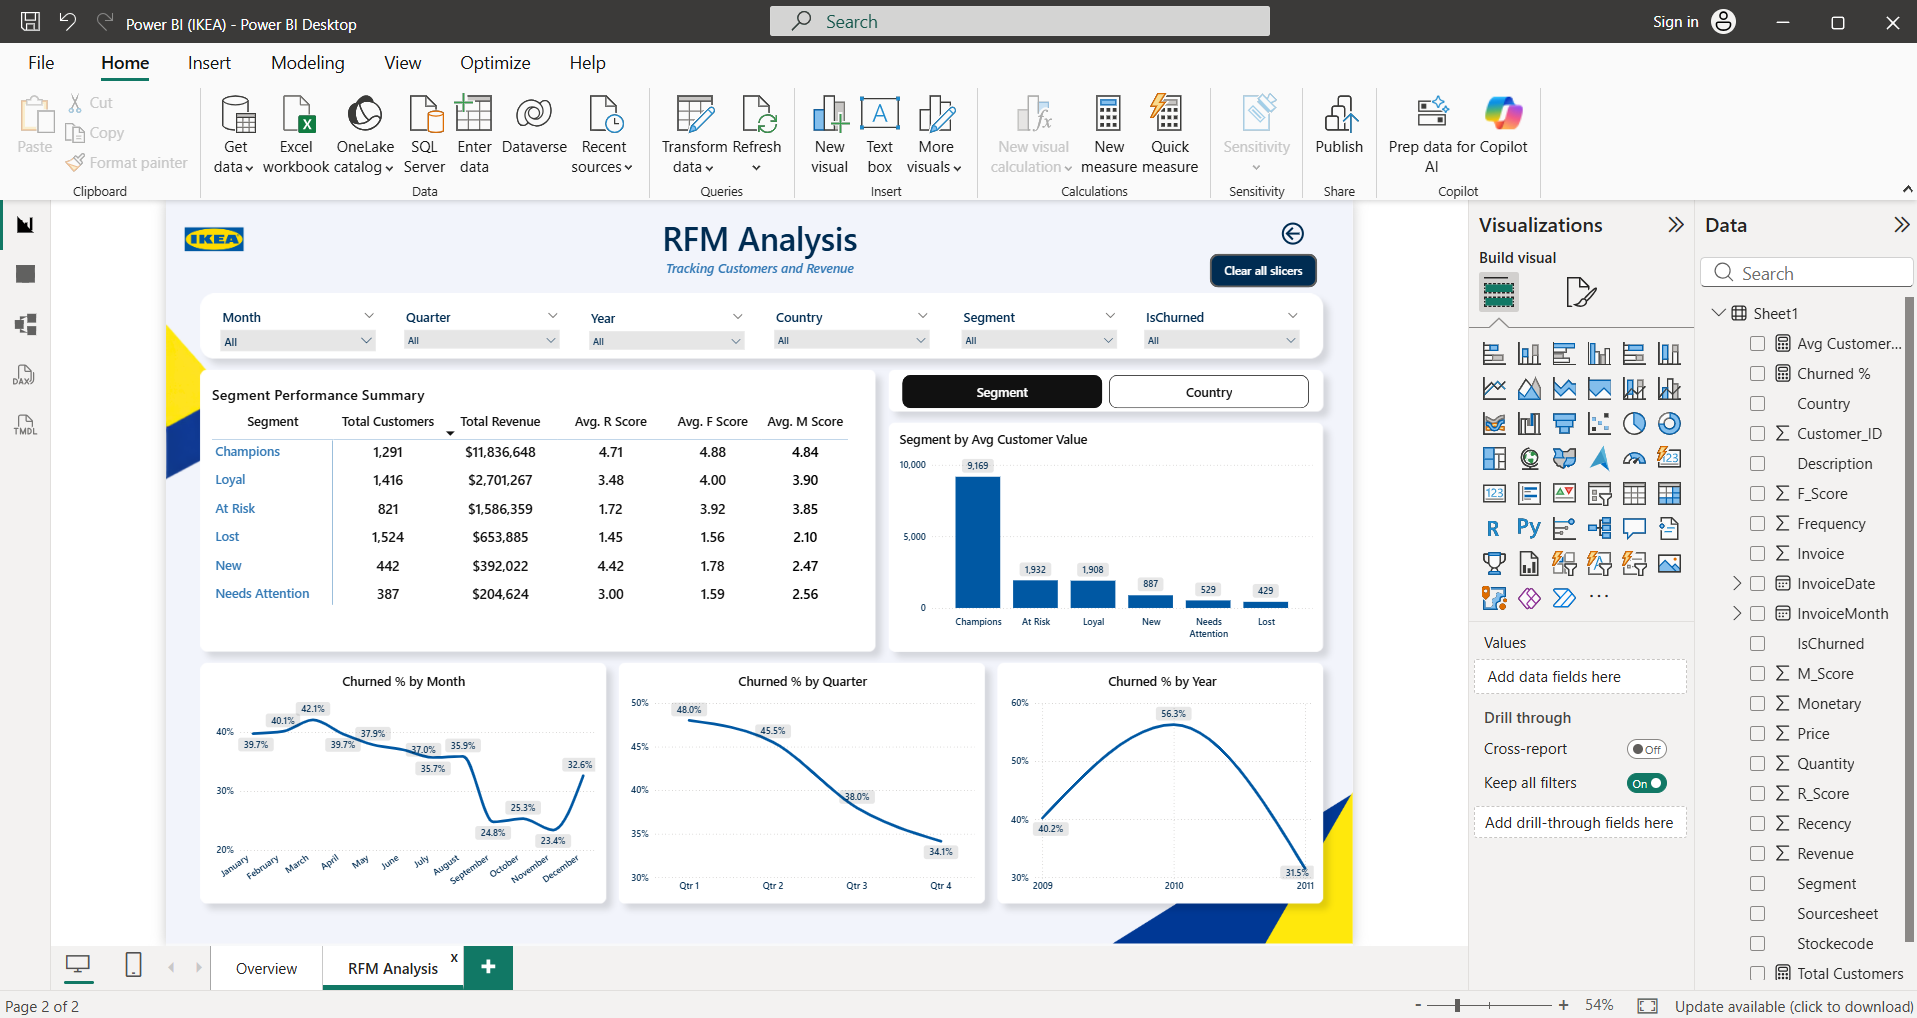

This screenshot's page, from the dashboard's own definition file:
{"tool":"powerbi","page":{"name":"RFM Analysis","canvas":[1750,1100],"ordinal":1},"visuals":[{"type":"slicer","fields":{"Values":["Sheet1.InvoiceMonth.Variation.Date Hierarchy.Month"]},"box":[69.4,155.6,249.3,69.4],"z":0},{"type":"pivotTable","title":"Segment Performance Summary","fields":{"Rows":["Sheet1.Segment"],"Values":["Sheet1.Total Customers","Sheet1.Total Revenue","Avg(Sheet1.R_Score)","Avg(Sheet1.F_Score)","Avg(Sheet1.M_Score)"]},"box":[62.7,261,973,394.4],"z":0,"group":"g2"},{"type":"lineChart","title":"Churned % by Month","fields":{"Category":["Sheet1.InvoiceMonth.Variation.Date Hierarchy.Month"],"Y":["Sheet1.Churned %"]},"box":[61.9,697.3,575.5,333.7],"z":0,"group":"g1"},{"type":"slicer","fields":{"Values":["Sheet1.InvoiceDate.Variation.Date Hierarchy.Quarter"]},"box":[341.2,155.6,249.3,69.4],"z":1000},{"type":"clusteredColumnChart","title":"Segment by Avg Customer Value","fields":{"Category":["Sheet1.Segment"],"Y":["Sheet1.Avg Customer Value"]},"box":[1076.4,339.1,619.3,317],"z":1000,"group":"g2"},{"type":"lineChart","fields":{"Category":["Sheet1.InvoiceMonth.Variation.Date Hierarchy.Year"],"Y":["Sheet1.Churned %"]},"box":[1239.1,697.3,457.4,333.7],"z":1000,"group":"g1"},{"type":"slicer","fields":{"Values":["Sheet1.InvoiceDate.Variation.Date Hierarchy.Year"]},"box":[613,157.5,249.3,69.4],"z":2000},{"type":"lineChart","fields":{"Category":["Sheet1.InvoiceMonth.Variation.Date Hierarchy.Quarter"],"Y":["Sheet1.Churned %"]},"box":[678.6,697.3,517.4,333.7],"z":2000,"group":"g1"},{"type":"slicer","fields":{"Values":["Sheet1.Segment"]},"box":[1162.2,155.6,249.3,69.4],"z":3000},{"type":"slicer","fields":{"Values":["Sheet1.Country"]},"box":[886.6,155.6,249.3,69.4],"z":4000},{"type":"slicer","fields":{"Values":["Sheet1.IsChurned"]},"box":[1432.1,155.6,249.3,69.4],"z":5000},{"type":"group","id":"g1","title":"Revenue","box":[61.9,697.3,1634.5,333.7],"z":7000},{"type":"bookmarkNavigator","box":[1085.6,258,600.9,49.8],"z":8000},{"type":"image","box":[7.4,20.3,127.2,75.6],"z":9000},{"type":"textbox","box":[588,18.4,575.1,119.8],"z":10000},{"type":"actionButton","box":[1625.7,18.4,71.9,62.7],"z":11000},{"type":"actionButton","box":[1539,79.3,158.5,49.8],"z":12000},{"type":"group","id":"g2","title":"Segment","box":[62.7,261,1633.1,395.2],"z":14000}]}

Visuals, with their boxes on the page's 1750x1100 design canvas (x1, y1, x2, y2). These are canvas units, not pixel positions in the 1917x1018 screenshot, which may show the page scaled, cropped or inside an application window:
slicer - Sheet1.InvoiceMonth.Variation.Date Hierarchy.Month: bbox=(69, 156, 319, 225)
"Segment Performance Summary" pivotTable: bbox=(63, 261, 1036, 655)
"Churned % by Month" lineChart: bbox=(62, 697, 637, 1031)
slicer - Sheet1.InvoiceDate.Variation.Date Hierarchy.Quarter: bbox=(341, 156, 590, 225)
"Segment by Avg Customer Value" clusteredColumnChart: bbox=(1076, 339, 1696, 656)
lineChart - Sheet1.InvoiceMonth.Variation.Date Hierarchy.Year x Sheet1.Churned %: bbox=(1239, 697, 1696, 1031)
slicer - Sheet1.InvoiceDate.Variation.Date Hierarchy.Year: bbox=(613, 158, 862, 227)
lineChart - Sheet1.InvoiceMonth.Variation.Date Hierarchy.Quarter x Sheet1.Churned %: bbox=(679, 697, 1196, 1031)
slicer - Sheet1.Segment: bbox=(1162, 156, 1412, 225)
slicer - Sheet1.Country: bbox=(887, 156, 1136, 225)
slicer - Sheet1.IsChurned: bbox=(1432, 156, 1681, 225)
"Revenue" group: bbox=(62, 697, 1696, 1031)
bookmarkNavigator: bbox=(1086, 258, 1686, 308)
image: bbox=(7, 20, 135, 96)
textbox: bbox=(588, 18, 1163, 138)
actionButton: bbox=(1626, 18, 1698, 81)
actionButton: bbox=(1539, 79, 1698, 129)
"Segment" group: bbox=(63, 261, 1696, 656)
